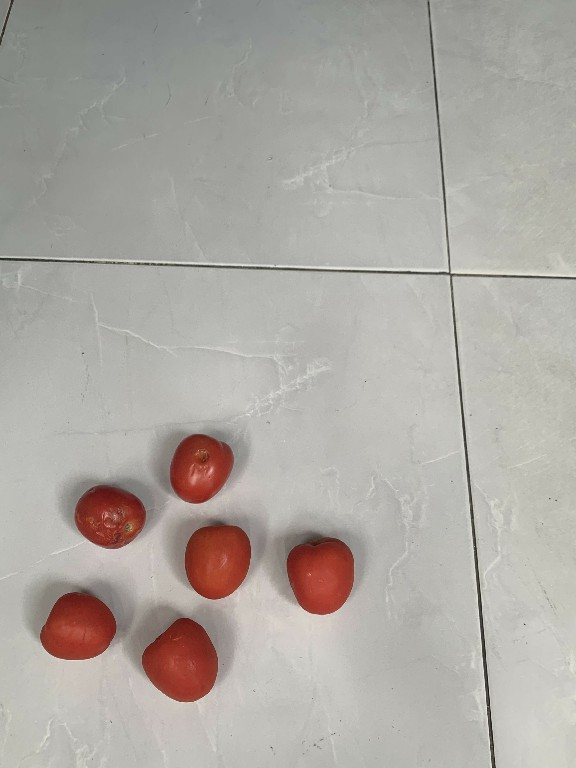NG: (65, 480, 147, 552), (162, 426, 232, 506)
OK: (138, 612, 225, 709), (281, 527, 359, 617), (35, 581, 116, 663), (175, 522, 257, 599)
